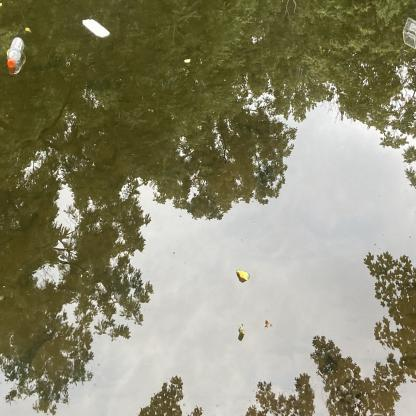trash: (80, 14, 113, 40), (3, 34, 26, 70), (401, 15, 416, 48)
